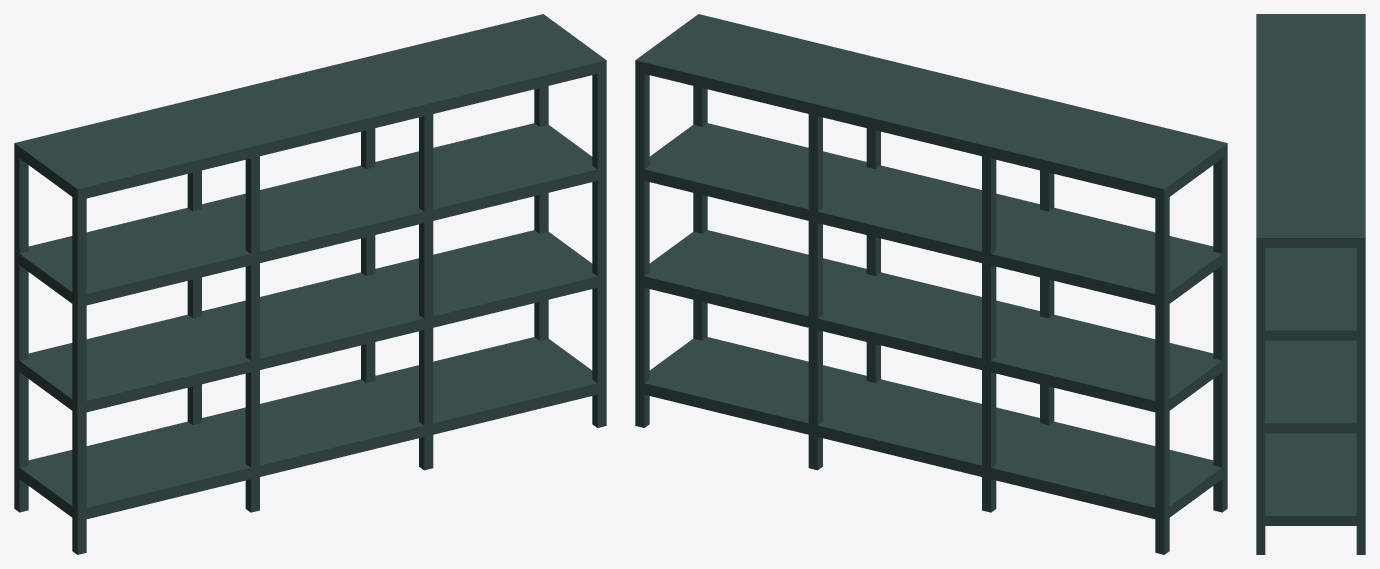
File: ShelfLarge.glb
The picture shows the model from 3 angles, left to right: view 1: azimuth 30°, elevation 25°; view 2: azimuth 150°, elevation 25°; view 3: azimuth 270°, elevation 25°; orthographic projection. The views are drawn at different scales.
Visible parts, largest first — view 1: Cube.004; view 2: Cube.004; view 3: Cube.004.
Part boxes in pixels (<box>): Cube.004: <box>14,14,606,554</box>; Cube.004: <box>635,14,1227,554</box>; Cube.004: <box>1256,14,1365,554</box>.
Bounding box in the file's own units: 11.6 × 7.66 × 2.4.
